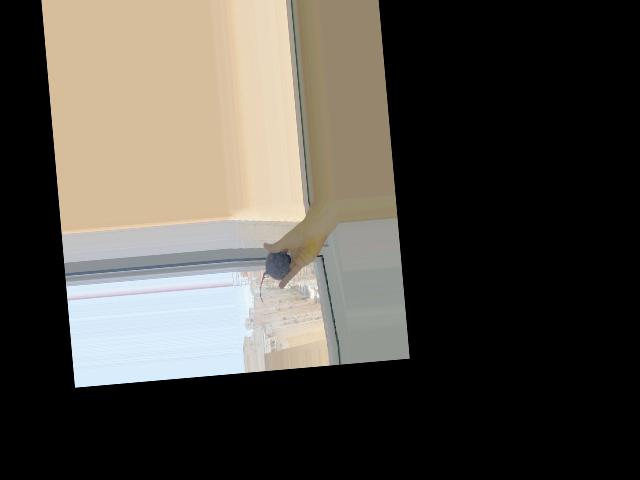beet: (256, 251, 294, 304)
